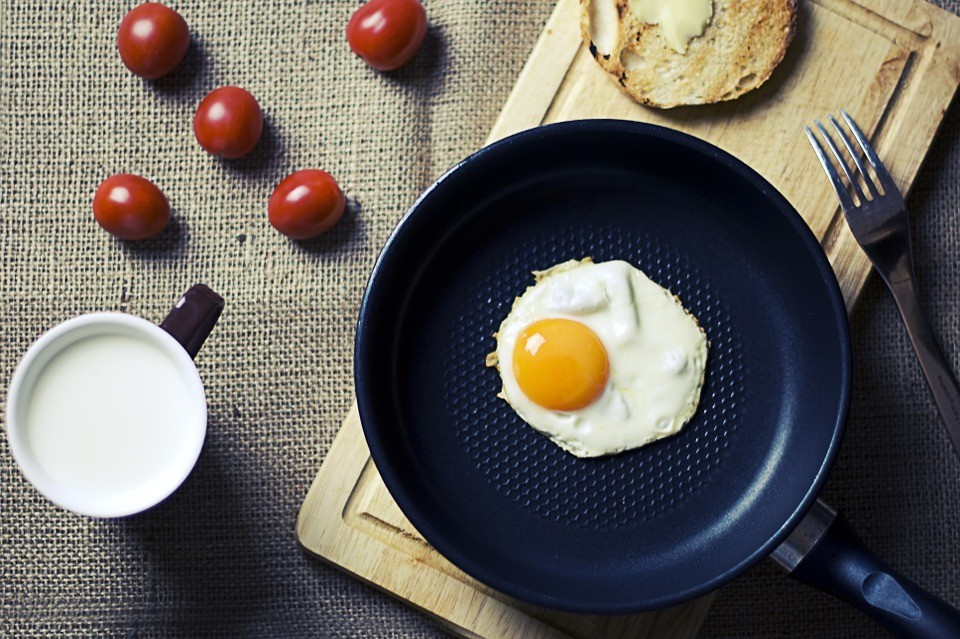fried egg: (494, 262, 706, 454)
glass of milk: (8, 322, 216, 516)
slice of bread: (579, 1, 793, 121)
